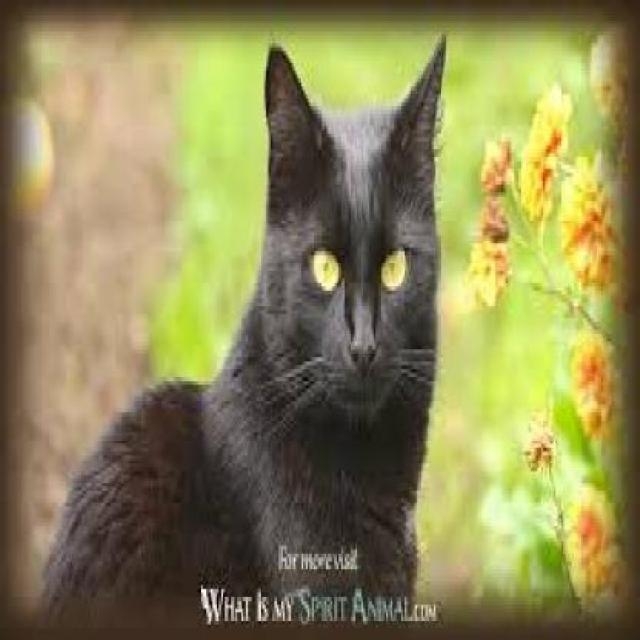animals: (102, 31, 460, 538)
